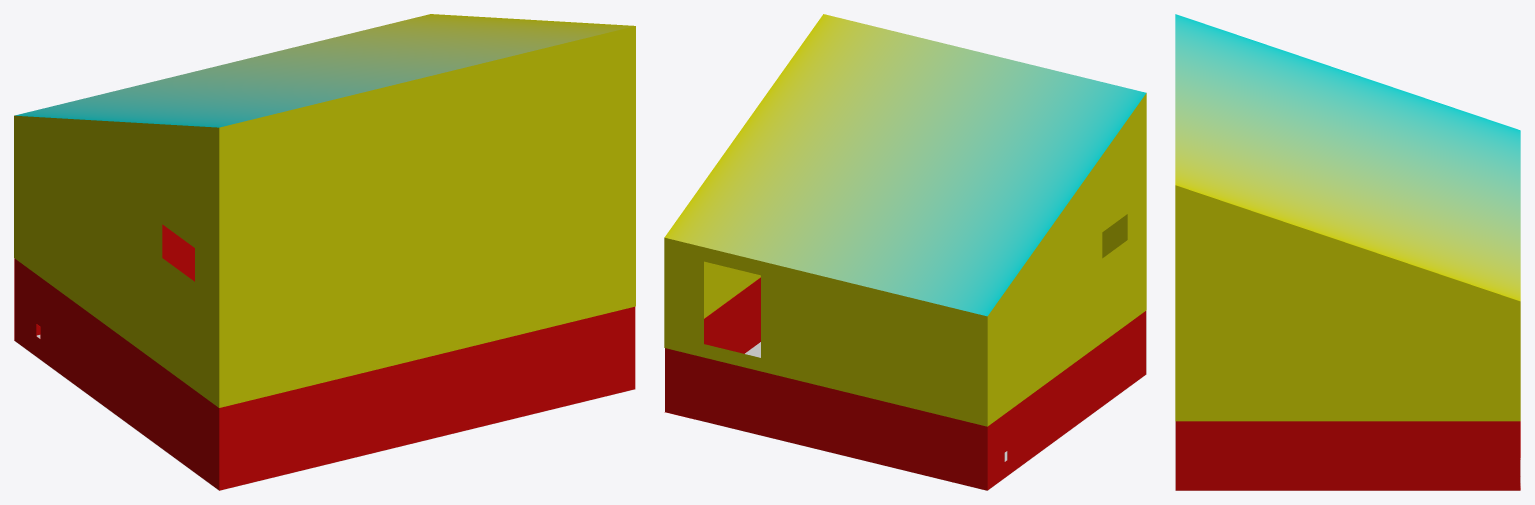
Rendered from Room_Pieces.fbx.
3 views of the same model, side by side, from view 1: azimuth 30°, elevation 25°; view 2: azimuth 150°, elevation 25°; view 3: azimuth 270°, elevation 25° (orthographic). The views are drawn at different scales.
Parts seen in each view (by area): view 1: Wall_Back, Wall_Exits, Ceiling, Wall_Window; view 2: Ceiling, Wall_Window, Wall_Exits, Wall_1, Wall_Back; view 3: Wall_1, Ceiling, Floor.
Part boxes in pixels (x1=…): Wall_Back: x1=219, y1=26, x2=635, y2=490; Wall_Exits: x1=14, y1=115, x2=219, y2=490; Ceiling: x1=15, y1=14, x2=634, y2=127; Wall_Window: x1=14, y1=224, x2=194, y2=340; Ceiling: x1=664, y1=14, x2=1146, y2=316; Wall_Window: x1=664, y1=237, x2=987, y2=490; Wall_Exits: x1=987, y1=93, x2=1146, y2=489; Wall_1: x1=704, y1=261, x2=760, y2=353; Wall_Back: x1=1102, y1=214, x2=1146, y2=374; Wall_1: x1=1175, y1=185, x2=1520, y2=490; Ceiling: x1=1175, y1=14, x2=1520, y2=301; Floor: x1=1175, y1=421, x2=1520, y2=490.
Size of the model in its own units: 209 by 174 by 178.
